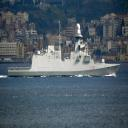Fragata: (7, 20, 122, 79)
